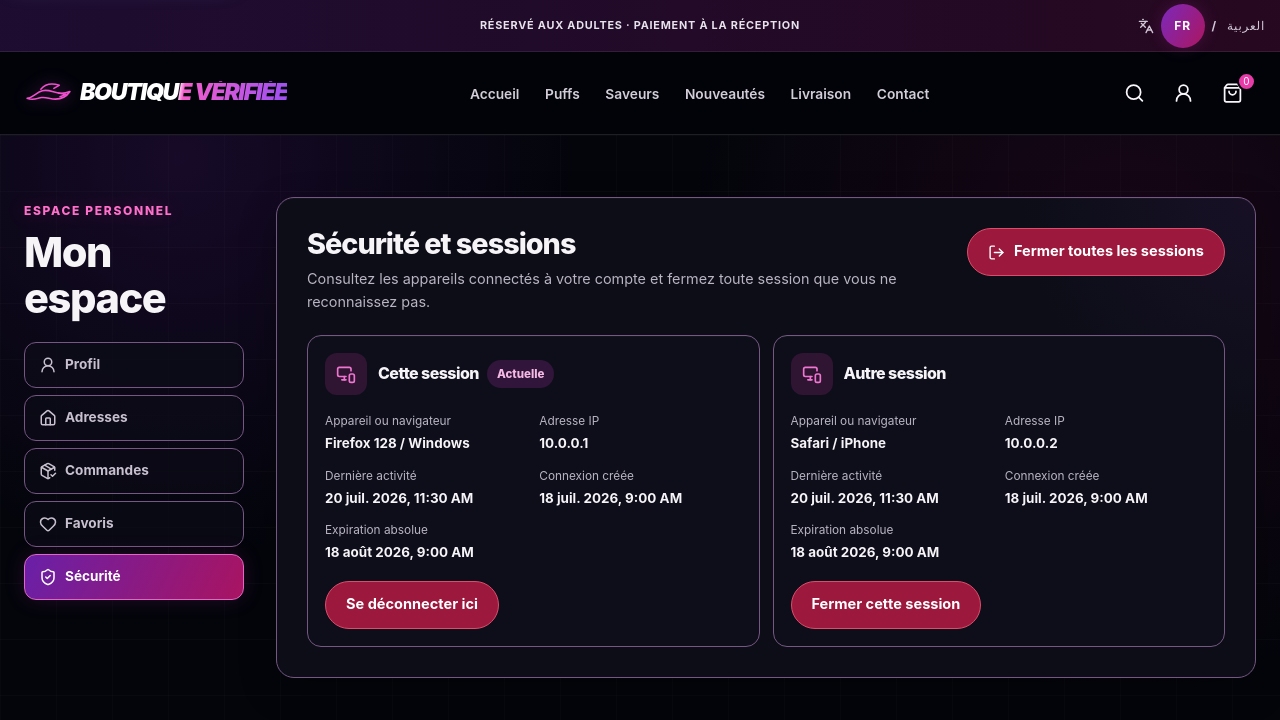
Test: customer account security › lists sessions with RTL-safe identifiers and revokes one after confirmation
Expected: the heading "Sécurité et sessions" is shown, [307, 226, 575, 261]
Click the button "Fermer cette session": point(886, 605) [790, 581, 981, 629]
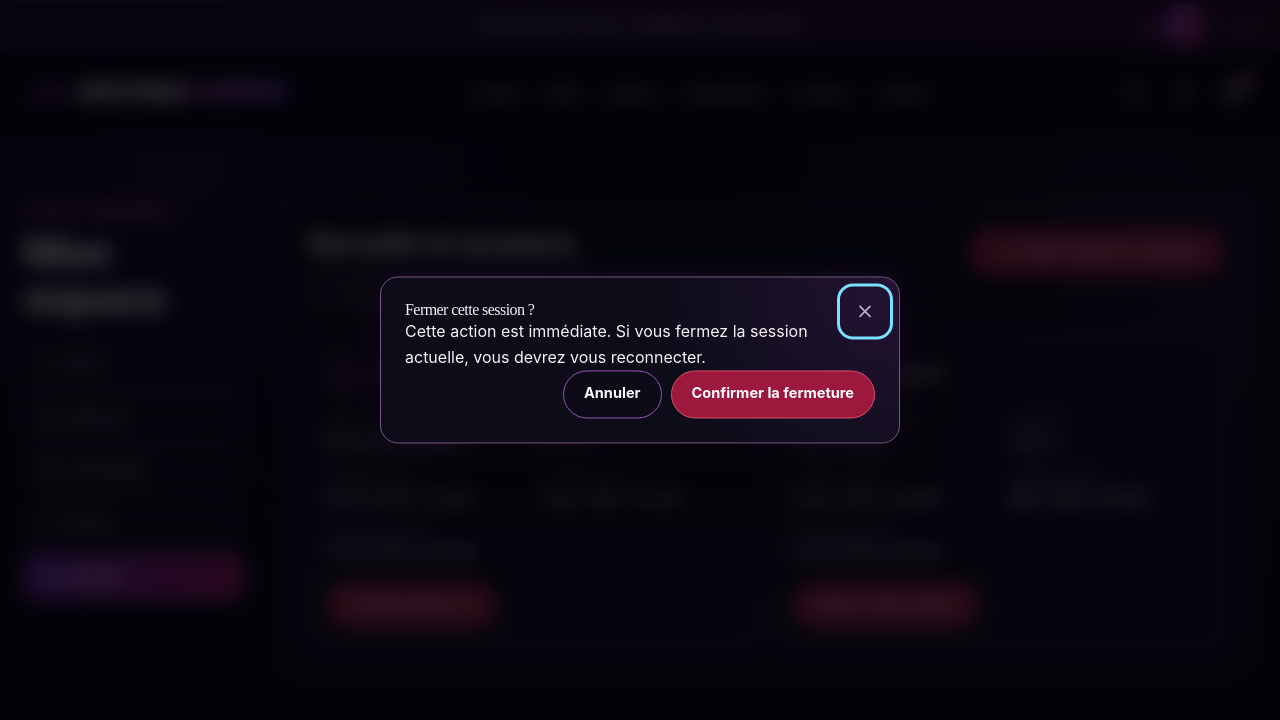
Expected: the button "Annuler" is shown
Click the button "Annuler": point(612, 394) [563, 370, 662, 418]
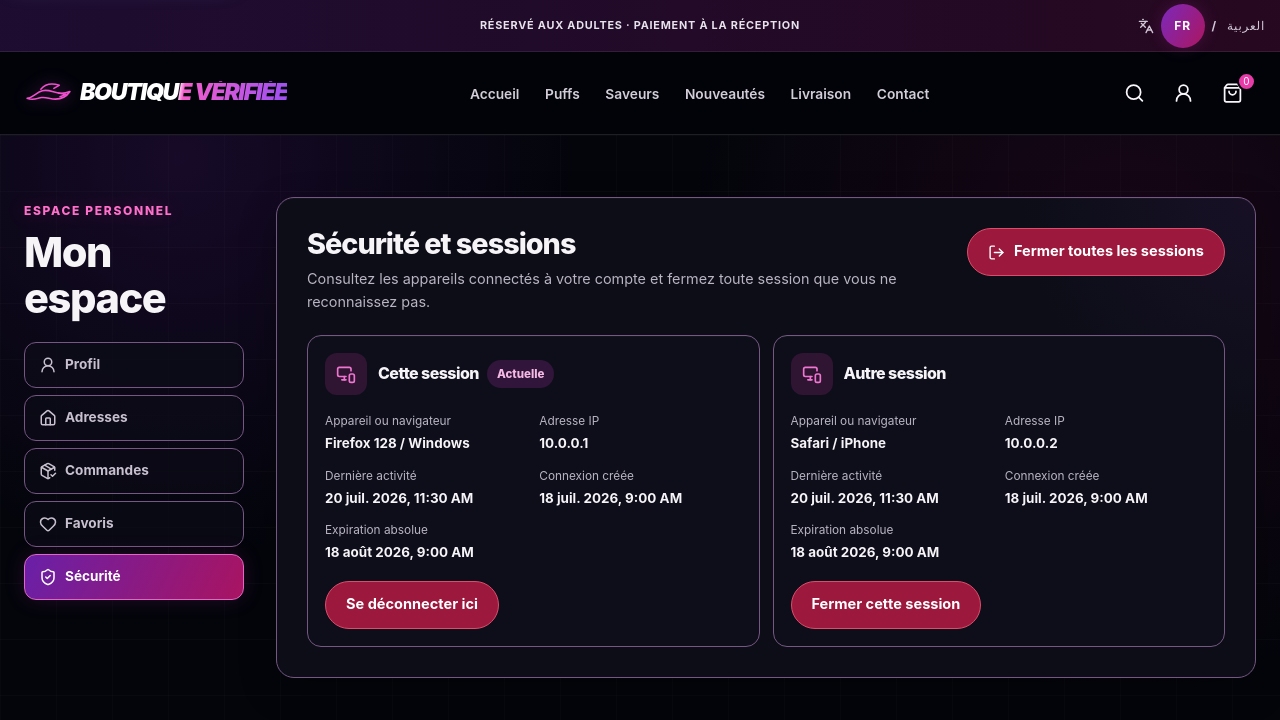
Expected: the dialog "Fermer cette session ?" is not shown
Click the button "Fermer cette session": point(886, 605) [790, 581, 981, 629]
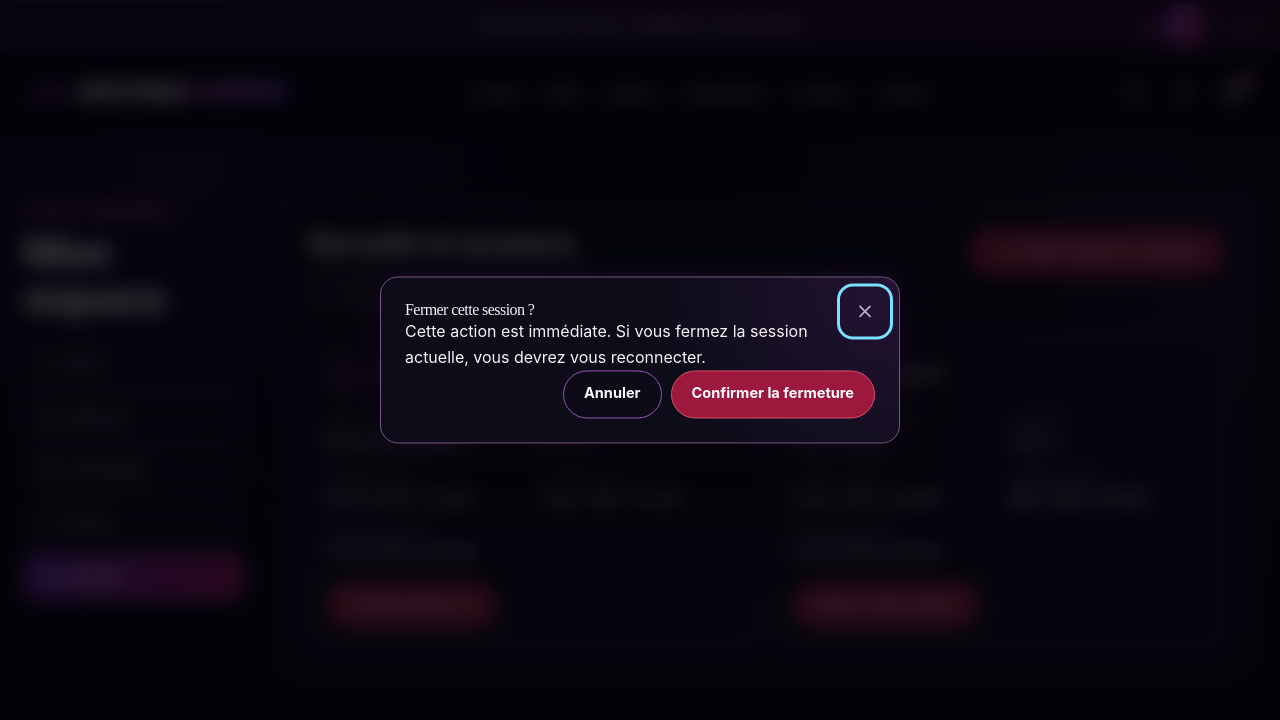
Click the button "Confirmer la fermeture": point(773, 394) [670, 370, 875, 418]
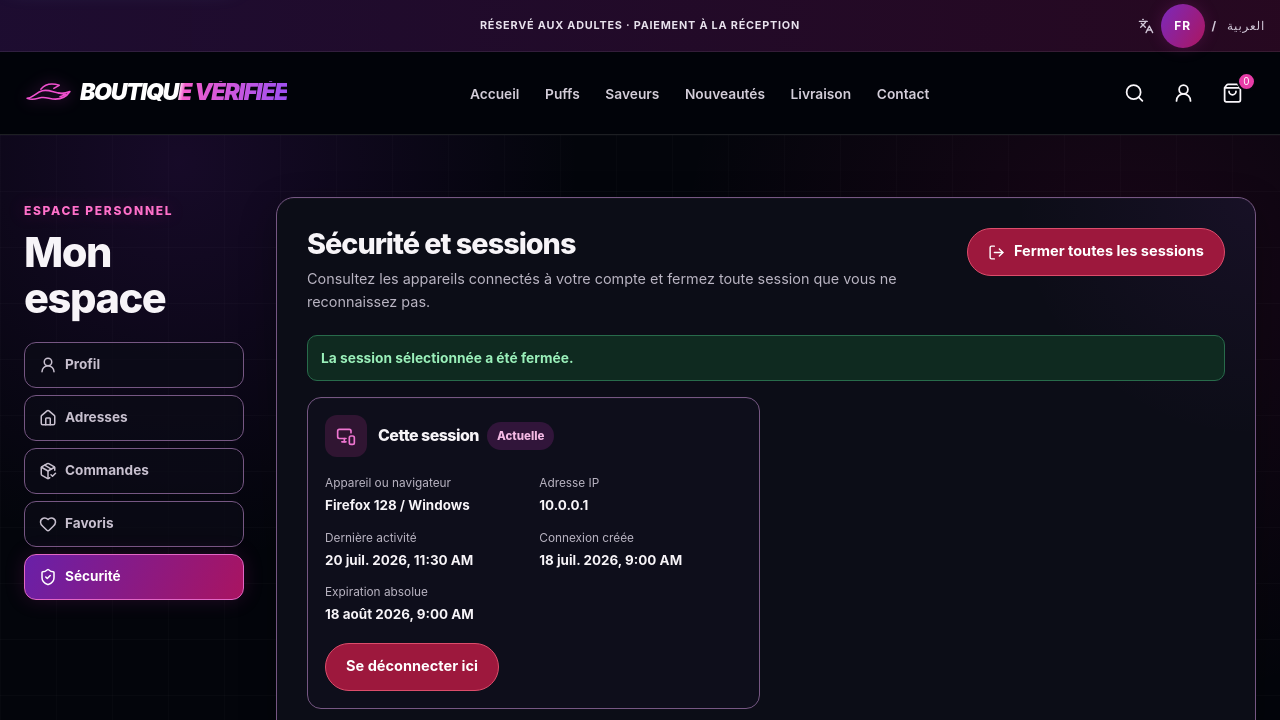
Expected: the text "10.0.0.2" is not shown
Expected: the message reads "La session sélectionnée a été fermée.", [321, 350, 574, 366]
